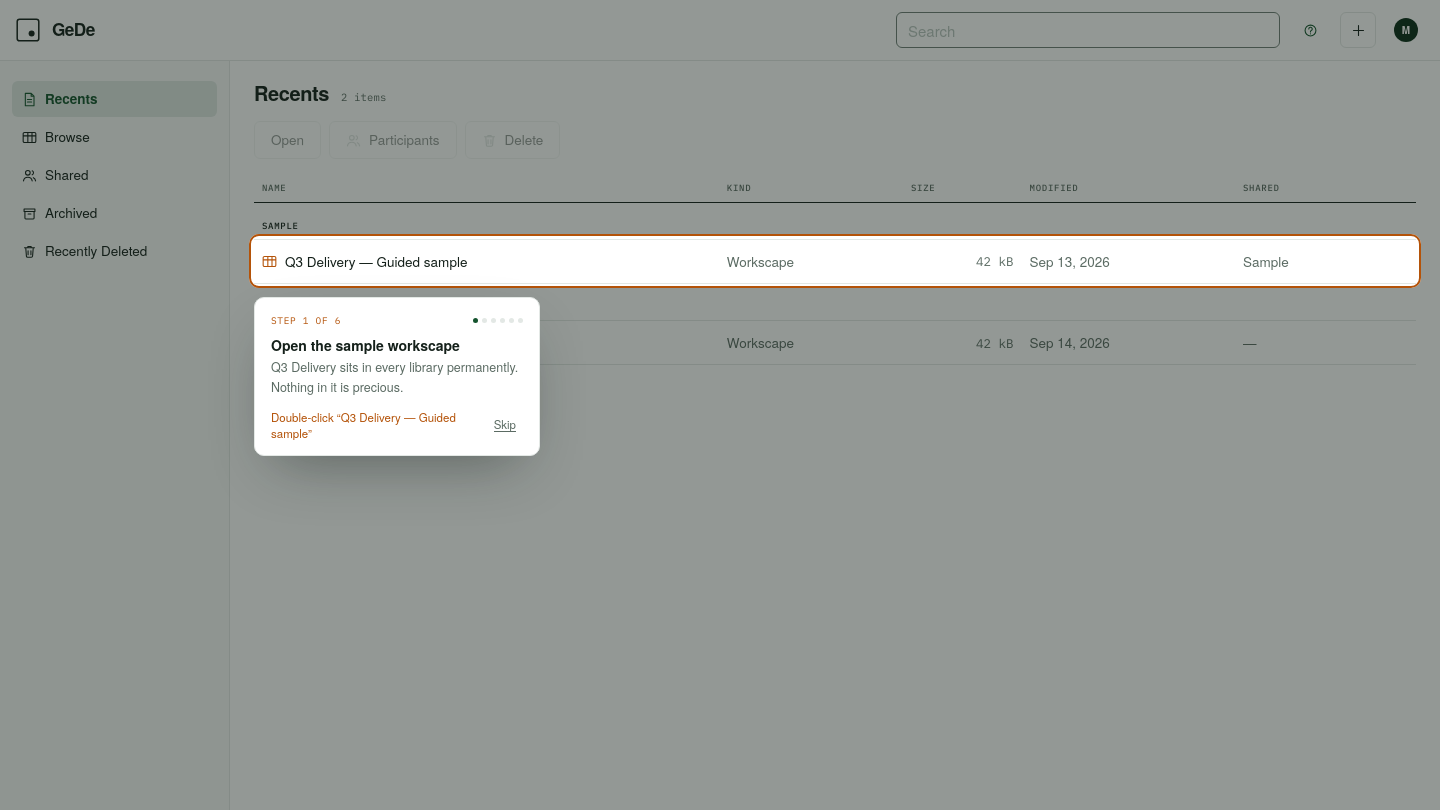
TourController › ONB-07 ONB-03 Skip ends the tour for good and sets the account flag
The width and height of the screenshot is (1440, 810).
Expected: the dialog "Open the sample workscape" is shown, [254,297,540,456]
Click the button "Skip": (505, 425) [487,411,523,439]
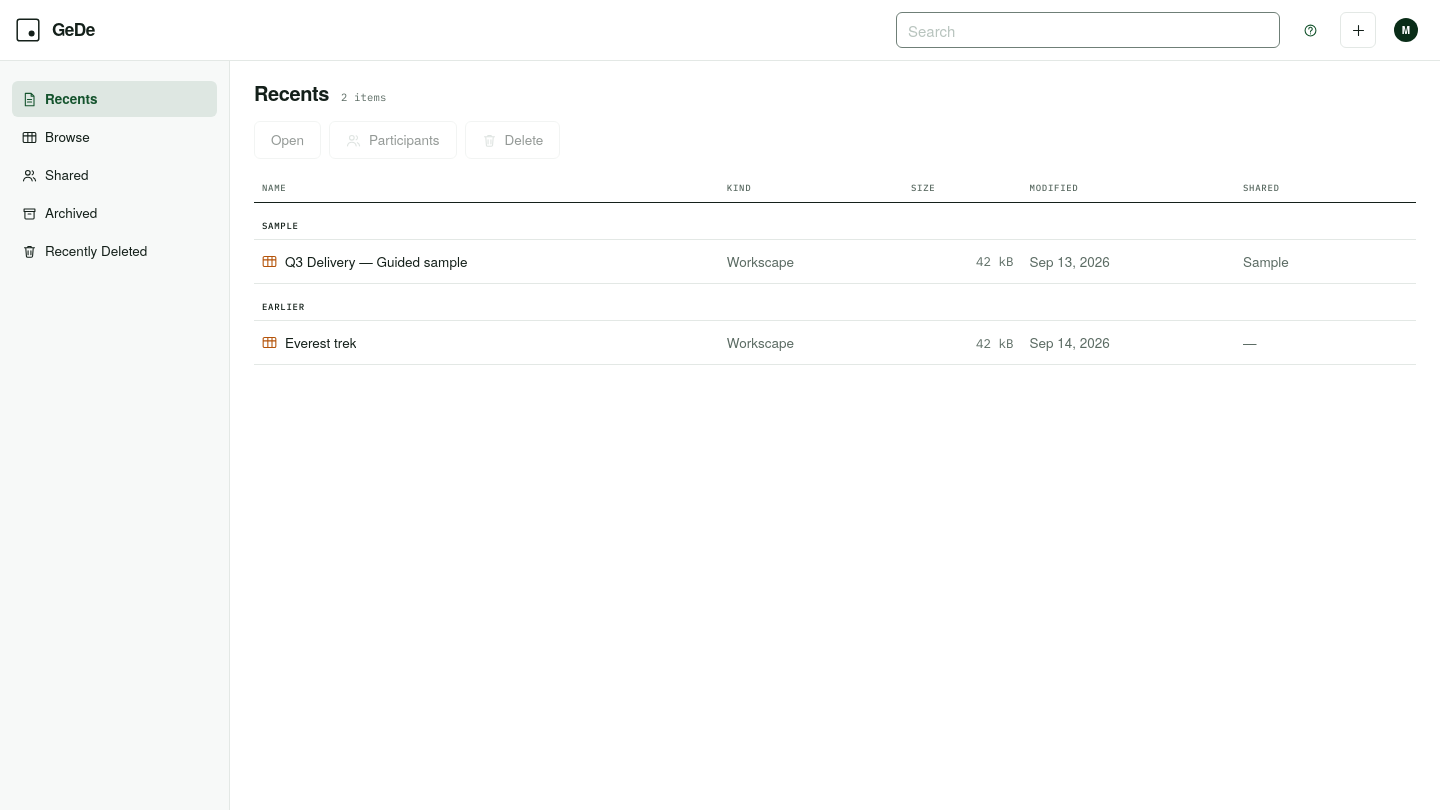
Expected: the button named "Add workscape" is enabled, [1340,12,1376,48]
Now the dialog is gone
